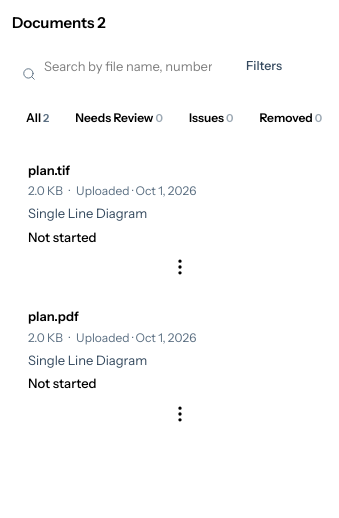
Test: RevisionDocuments rows › offers Download but not Open for a TIFF row
Expected: the text "plan.tif" is shown, [28,162,70,178]
Click the button named "Actions for plan.tif" at (180, 267), box [164,251,196,283]
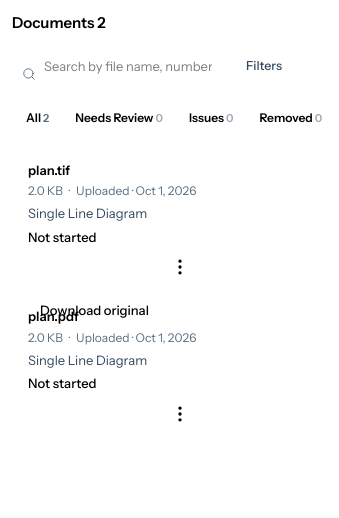
Expected: the menu item "Open original" is not shown
Expected: the menu item "Download original" is shown, [40,302,149,318]
Press Escape
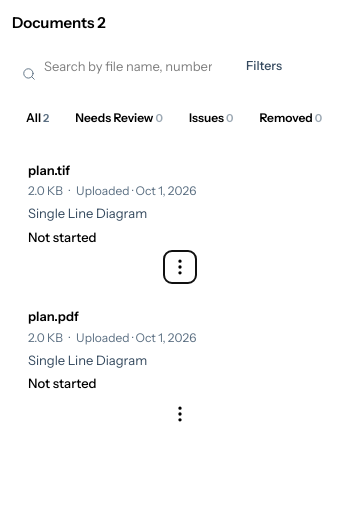
Click the button named "Actions for plan.pdf" at (180, 414), box [164,398,196,430]
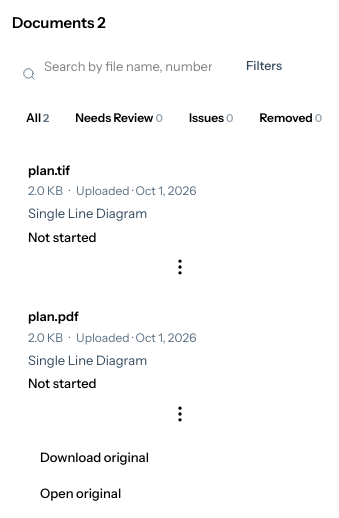
Expected: the menu item "Open original" is shown, [40,485,121,501]
Expected: the menu item "Download original" is shown, [40,449,149,465]
